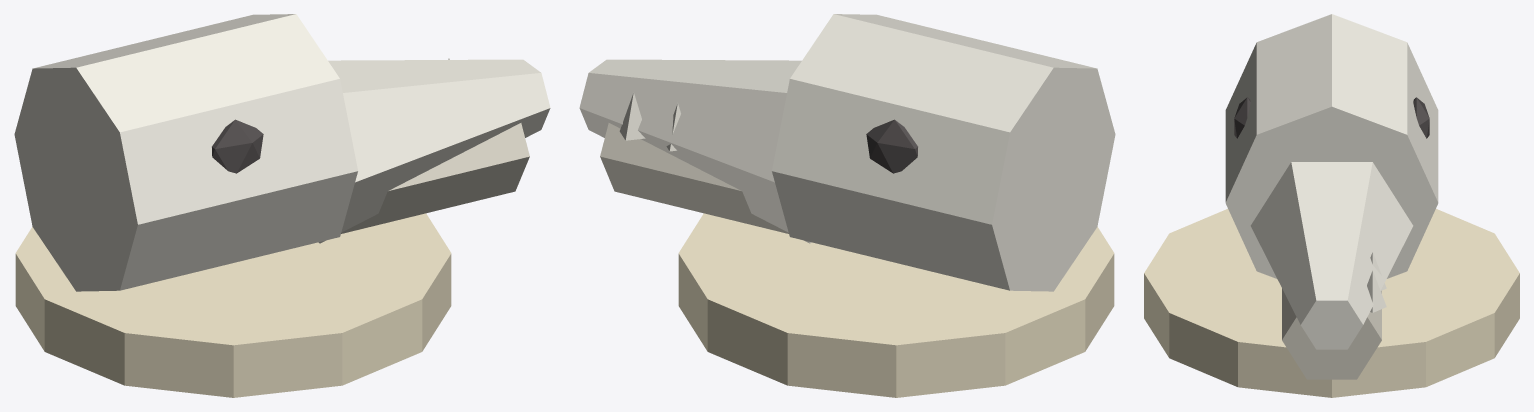
Rendered from 45-Arte3D_caveira_criatura.glb.
3 views of the same model, side by side, from view 1: azimuth 30°, elevation 25°; view 2: azimuth 150°, elevation 25°; view 3: azimuth 270°, elevation 25° (orthographic). The views are drawn at different scales.
Visible parts, largest first — view 1: SM_Caveira_M_Caveira_Hueso, SM_Caveira_M_Arena_Isla, SM_Caveira_M_Caveira_Hueso_Osc, SM_Caveira_M_Caveira_Cuenca; view 2: SM_Caveira_M_Caveira_Hueso, SM_Caveira_M_Arena_Isla, SM_Caveira_M_Caveira_Hueso_Osc, SM_Caveira_M_Caveira_Cuenca; view 3: SM_Caveira_M_Caveira_Hueso, SM_Caveira_M_Arena_Isla, SM_Caveira_M_Caveira_Hueso_Osc, SM_Caveira_M_Caveira_Cuenca.
Boxes of the visible parts, x1=… form: SM_Caveira_M_Caveira_Hueso: x1=14, y1=14, x2=550, y2=291; SM_Caveira_M_Arena_Isla: x1=15, y1=213, x2=451, y2=397; SM_Caveira_M_Caveira_Hueso_Osc: x1=341, y1=123, x2=529, y2=233; SM_Caveira_M_Caveira_Cuenca: x1=212, y1=119, x2=263, y2=173; SM_Caveira_M_Caveira_Hueso: x1=579, y1=14, x2=1115, y2=291; SM_Caveira_M_Arena_Isla: x1=678, y1=213, x2=1114, y2=397; SM_Caveira_M_Caveira_Hueso_Osc: x1=600, y1=123, x2=788, y2=233; SM_Caveira_M_Caveira_Cuenca: x1=866, y1=119, x2=917, y2=173; SM_Caveira_M_Caveira_Hueso: x1=1225, y1=14, x2=1438, y2=349; SM_Caveira_M_Arena_Isla: x1=1144, y1=209, x2=1519, y2=397; SM_Caveira_M_Caveira_Hueso_Osc: x1=1282, y1=288, x2=1381, y2=379; SM_Caveira_M_Caveira_Cuenca: x1=1234, y1=97, x2=1429, y2=138.
Bounding box in the file's own units: 1.55 × 0.84 × 1.2.
